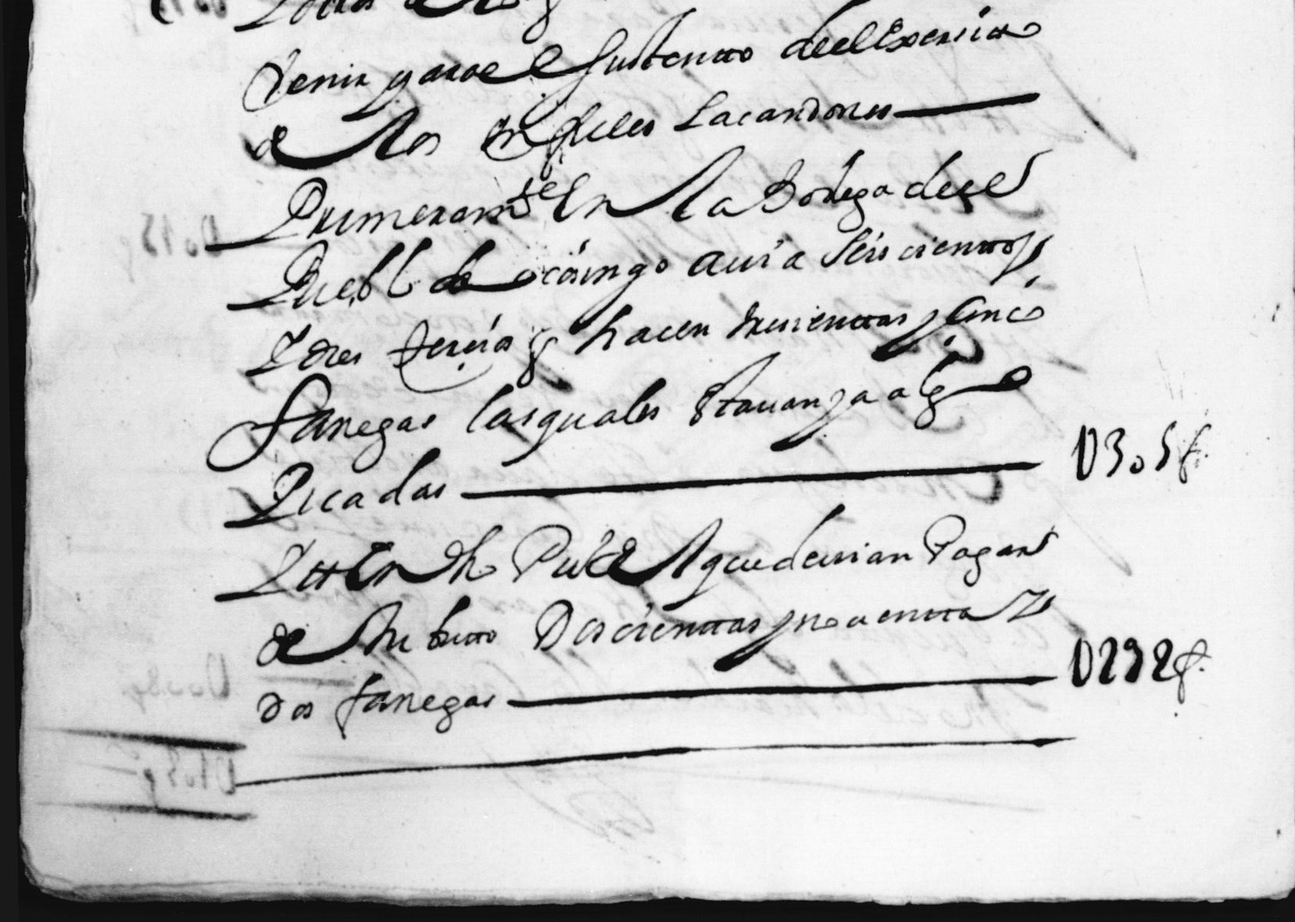lacandon: (673, 90, 892, 131)
